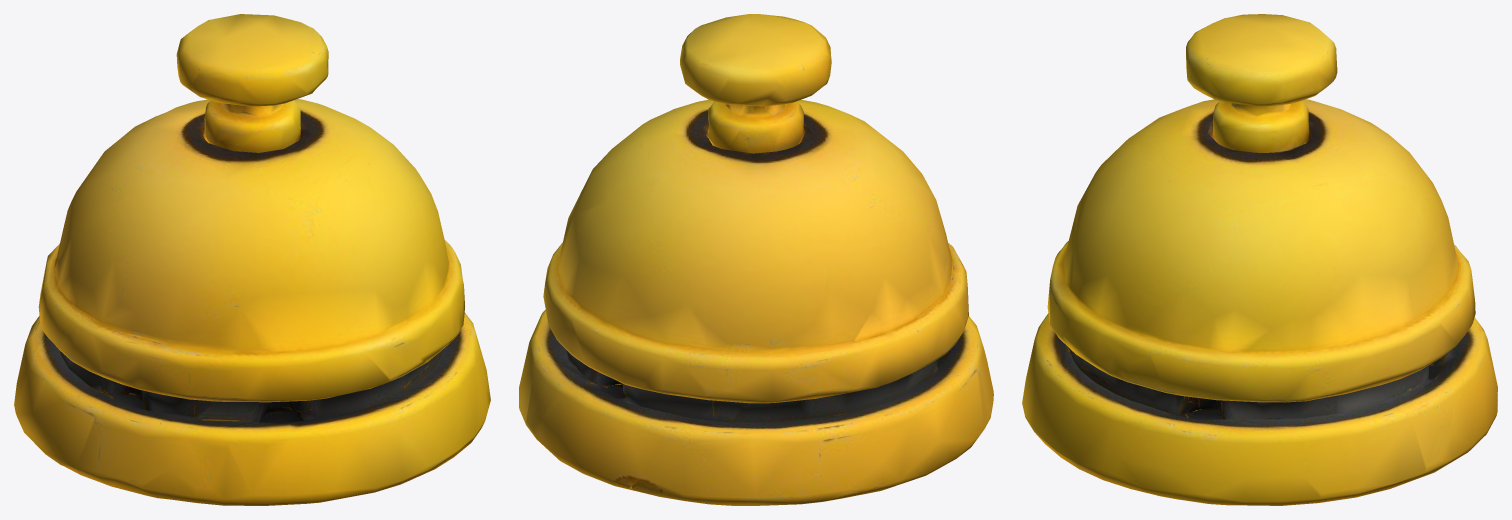
File: service_bell.glb
The picture shows the model from 3 angles, left to right: view 1: azimuth 30°, elevation 25°; view 2: azimuth 150°, elevation 25°; view 3: azimuth 270°, elevation 25°; orthographic projection.
Visible parts, largest first — view 1: service_bell; view 2: service_bell; view 3: service_bell.
Part boxes in pixels (left/top/right/bottom): service_bell: left=14, top=14, right=490, bottom=505; service_bell: left=519, top=14, right=993, bottom=505; service_bell: left=1022, top=14, right=1497, bottom=505.
Bounding box in the file's own units: 0.9956 × 0.8628 × 0.996.
Materials: 1 (1 with a texture image).
